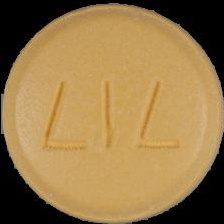54868-5011: (0, 0, 224, 224)
